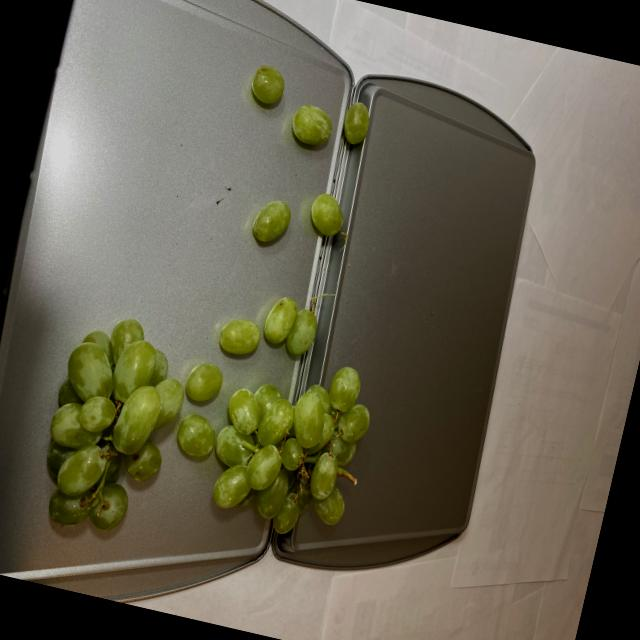grapes: (30, 256, 393, 594), (224, 66, 379, 264)
